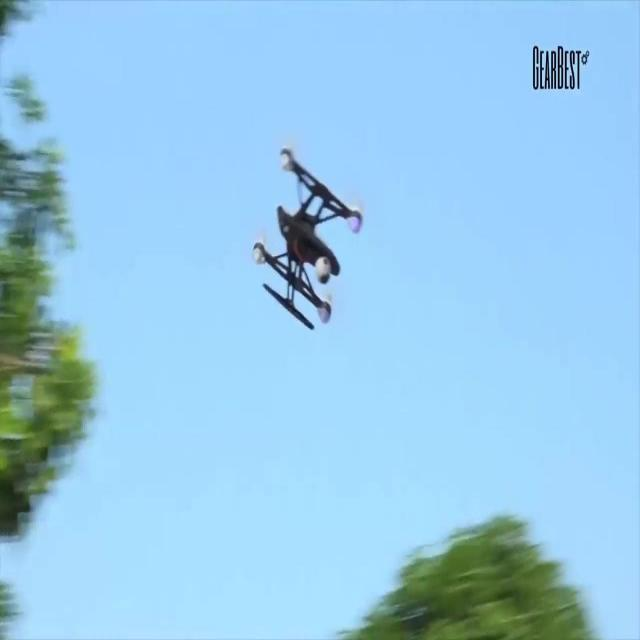UAV: (252, 143, 362, 330)
